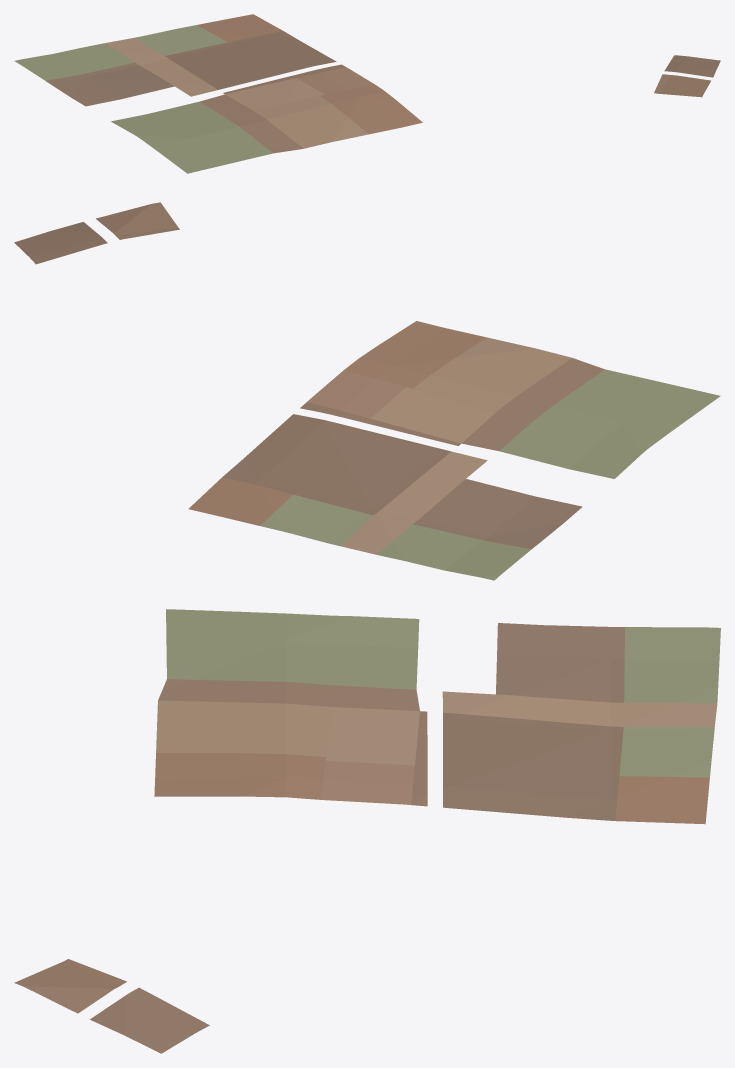
File: farm_9_21_soil.glb
3 views of the same model, one above another, from view 1: azimuth 30°, elevation 25°; view 2: azimuth 150°, elevation 25°; view 3: azimuth 270°, elevation 25° (orthographic). The views are drawn at different scales.
Parts seen in each view (by area): view 1: geometry_0; view 2: geometry_0; view 3: geometry_0.
Part boxes in pixels (x1,y1,x2,y2): geometry_0: (14, 14, 720, 173); geometry_0: (14, 202, 720, 580); geometry_0: (14, 609, 720, 1053).
Bounding box in the file's own units: 491 × 17.12 × 348.
